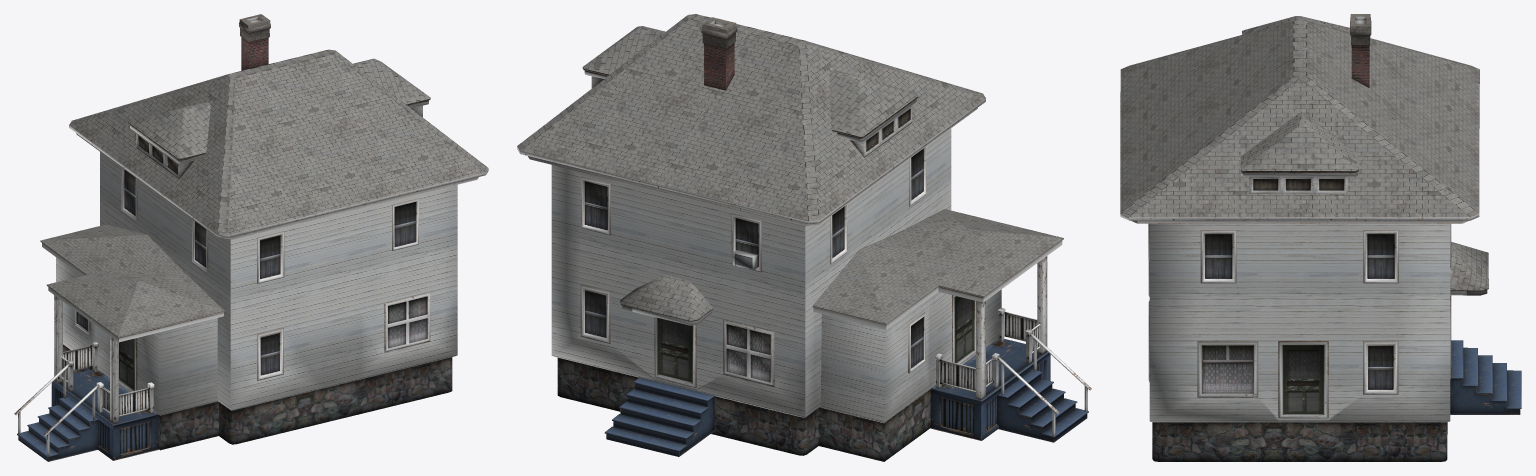
File: casa.glb
3 views of the same model, side by side, from view 1: azimuth 30°, elevation 25°; view 2: azimuth 150°, elevation 25°; view 3: azimuth 270°, elevation 25° (orthographic). The views are drawn at different scales.
Visible parts, largest first — view 1: house; view 2: house; view 3: house.
Part boxes in pixels (x1=…): house: x1=14, y1=14, x2=488, y2=461; house: x1=517, y1=14, x2=1091, y2=461; house: x1=1120, y1=14, x2=1521, y2=461.
Size of the model in its own units: 124 by 97.6 by 93.13.
Materials: 3 (3 with a texture image).
